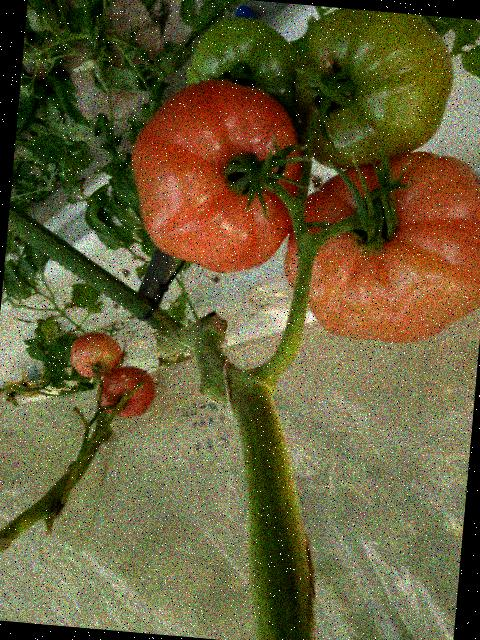b_fully_ripened: (121, 72, 312, 279), (94, 363, 157, 420)
b_green: (286, 4, 458, 180), (182, 12, 305, 123)
b_half_ripened: (277, 139, 480, 351), (67, 330, 123, 380)
